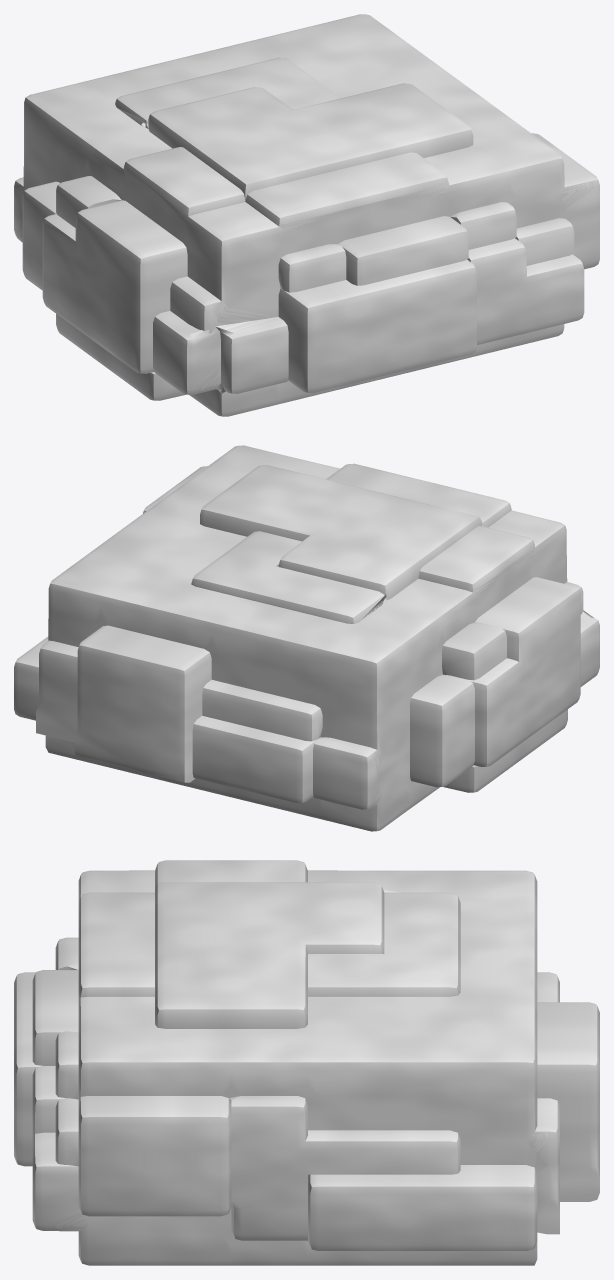
Rendered from Cloud.FBX.
3 views of the same model, one above another, from view 1: azimuth 30°, elevation 25°; view 2: azimuth 150°, elevation 25°; view 3: azimuth 270°, elevation 25° (orthographic). The views are drawn at different scales.
Visible parts, largest first — view 1: Box001; view 2: Box001; view 3: Box001.
Boxes of the visible parts, x1,y1,x2,y2 form: Box001: (14, 14, 599, 416); Box001: (14, 445, 599, 831); Box001: (14, 860, 599, 1265).
Bounding box in the file's own units: 24.85 × 11 × 25.55.
1 material, 1 textured.
